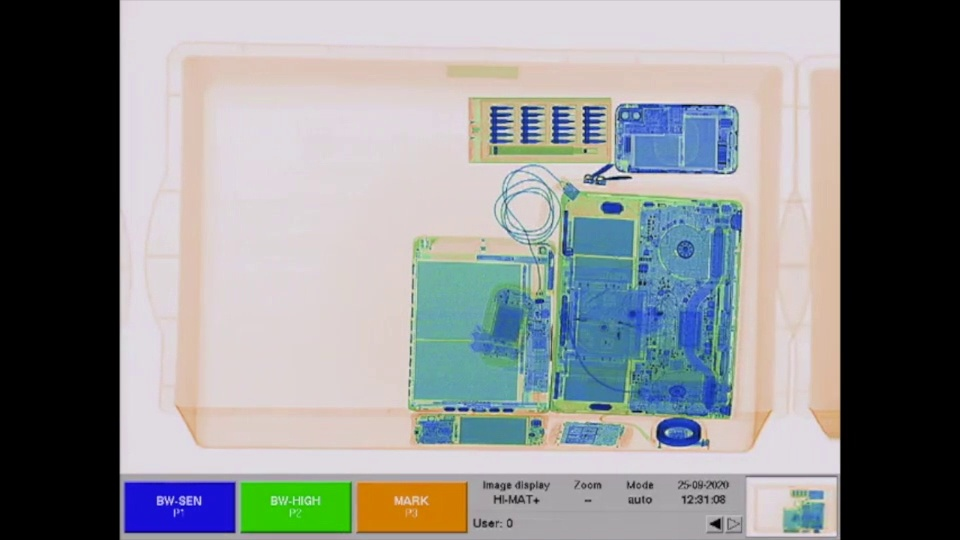tray_img: (139, 30, 800, 461)
